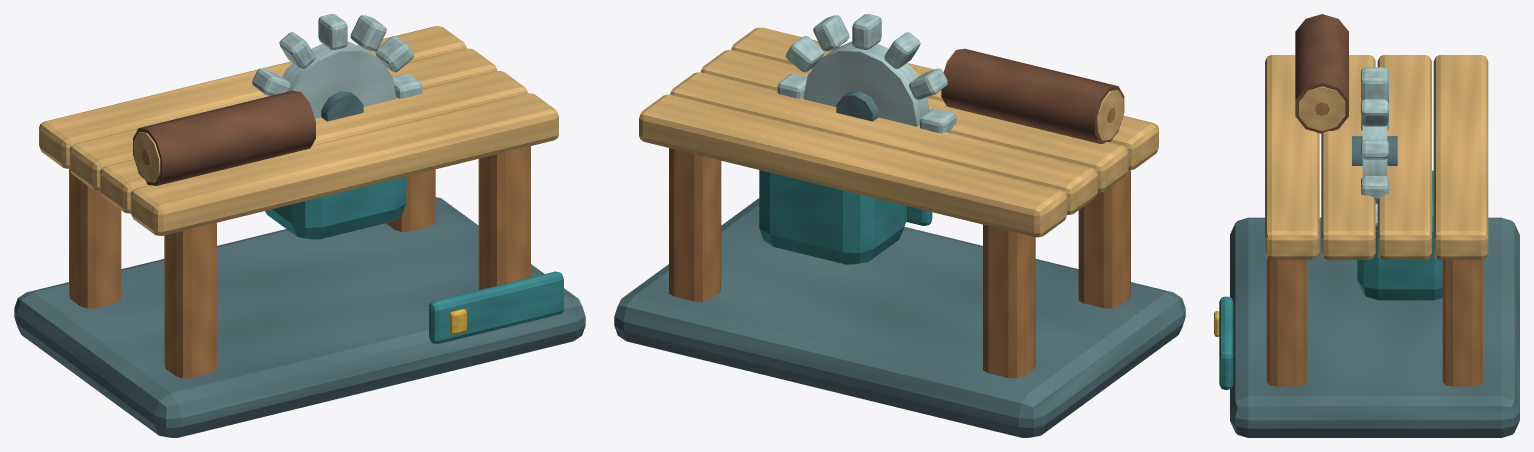
Rendered from sawmill-tier-1.glb.
The picture shows the model from 3 angles, left to right: view 1: azimuth 30°, elevation 25°; view 2: azimuth 150°, elevation 25°; view 3: azimuth 270°, elevation 25°; orthographic projection. The views are drawn at different scales.
Parts seen in each view (by area): view 1: sawmill-tier-1-body, saw-blade; view 2: sawmill-tier-1-body, saw-blade; view 3: sawmill-tier-1-body, saw-blade.
Part boxes in pixels (x1,y1,x2,y2): sawmill-tier-1-body: (14,26,585,437); saw-blade: (252,14,422,121); sawmill-tier-1-body: (614,27,1185,437); saw-blade: (777,14,956,133); sawmill-tier-1-body: (1214,14,1519,437); saw-blade: (1352,67,1397,229).
Size of the model in its own units: 2.6 by 1.81 by 1.74.
Materials: 1 (1 with a texture image).
